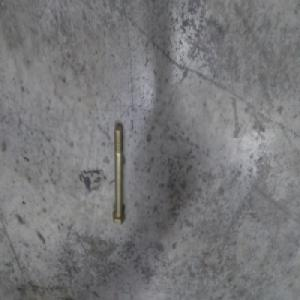Bolt: (110, 122, 127, 227)
